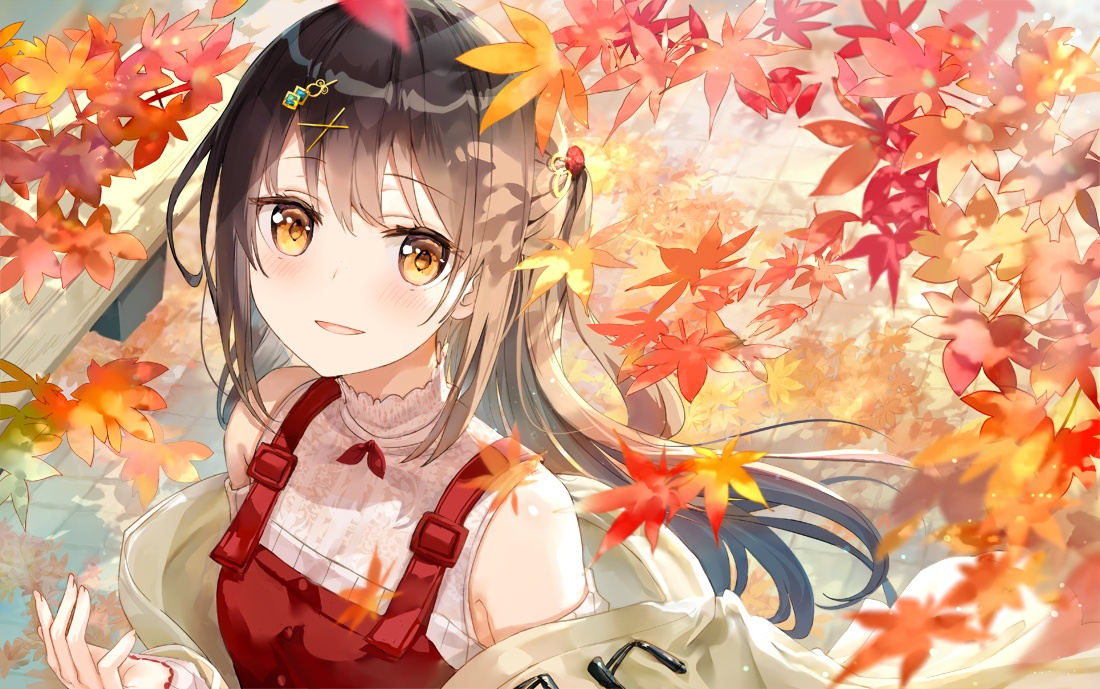纸片人正脸: (186, 5, 537, 388)
